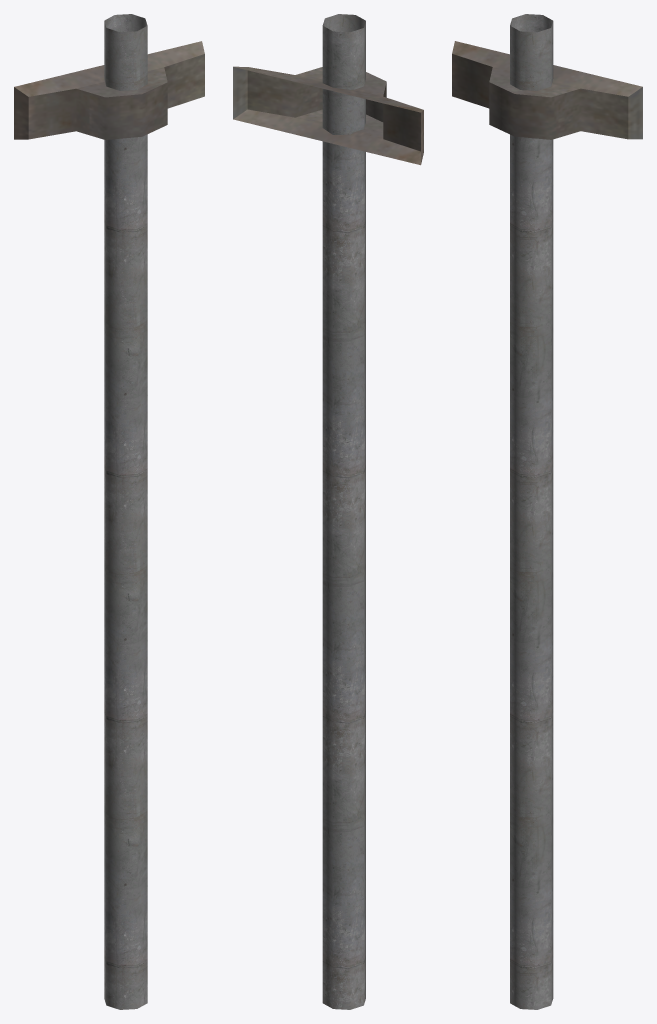
Rendered from p_glo_electrical_pipes_short_LOD0.obj.
3 views of the same model, side by side, from view 1: azimuth 30°, elevation 25°; view 2: azimuth 150°, elevation 25°; view 3: azimuth 330°, elevation 25° (orthographic).
Parts seen in each view (by area): view 1: mtl_p_rus_pipes_modular; view 2: mtl_p_rus_pipes_modular; view 3: mtl_p_rus_pipes_modular.
Boxes of the visible parts, x1=… form: mtl_p_rus_pipes_modular: x1=14, y1=14, x2=204, y2=1009; mtl_p_rus_pipes_modular: x1=233, y1=14, x2=423, y2=1009; mtl_p_rus_pipes_modular: x1=452, y1=14, x2=642, y2=1009.
Bounding box in the file's own units: 12.27 × 60.96 × 3.88.
